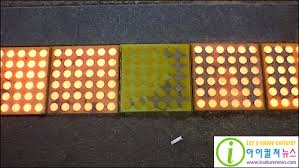guide_blocks: (1, 46, 299, 109)
